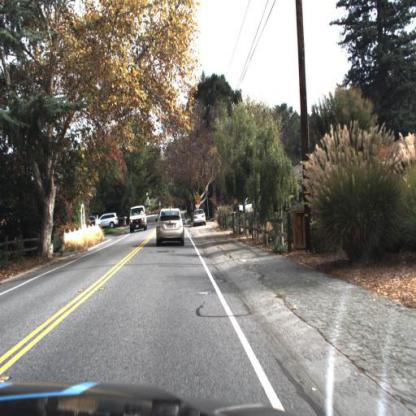car: (154, 203, 185, 244), (130, 207, 150, 235), (191, 206, 210, 227), (101, 211, 120, 231)
